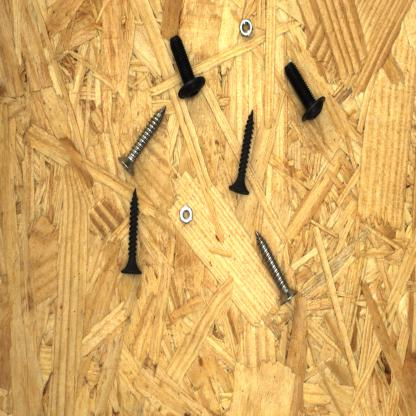screw: (114, 103, 169, 178), (254, 224, 300, 310), (281, 56, 328, 125), (225, 106, 259, 199), (166, 30, 207, 103), (117, 185, 145, 279)
